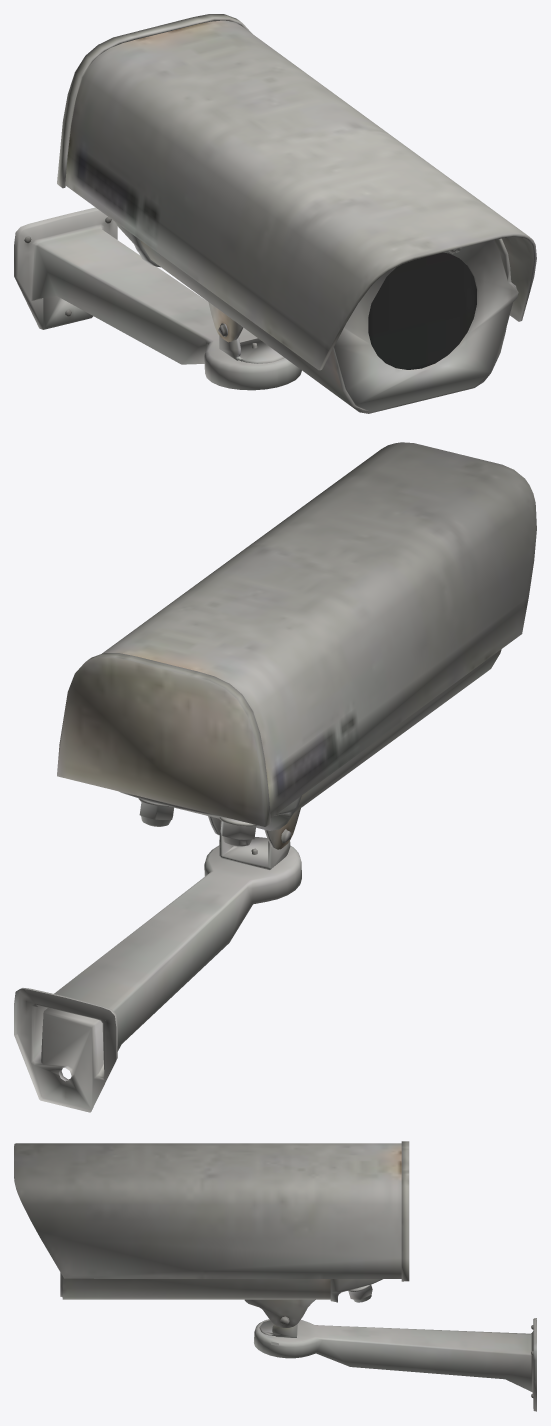
The model's file is security_camera_01.glb.
The picture shows the model from 3 angles, top to bottom: view 1: azimuth 30°, elevation 25°; view 2: azimuth 150°, elevation 25°; view 3: azimuth 270°, elevation 25°; orthographic projection. The views are drawn at different scales.
Parts seen in each view (by area): view 1: security_camera_01; view 2: security_camera_01; view 3: security_camera_01.
Boxes of the visible parts, bbox=[...] form: security_camera_01: bbox=[14, 14, 536, 413]; security_camera_01: bbox=[14, 442, 536, 1112]; security_camera_01: bbox=[14, 1141, 536, 1411].
Bounding box in the file's own units: 0.1696 × 0.286 × 0.5536.
2 materials, 2 textured.
